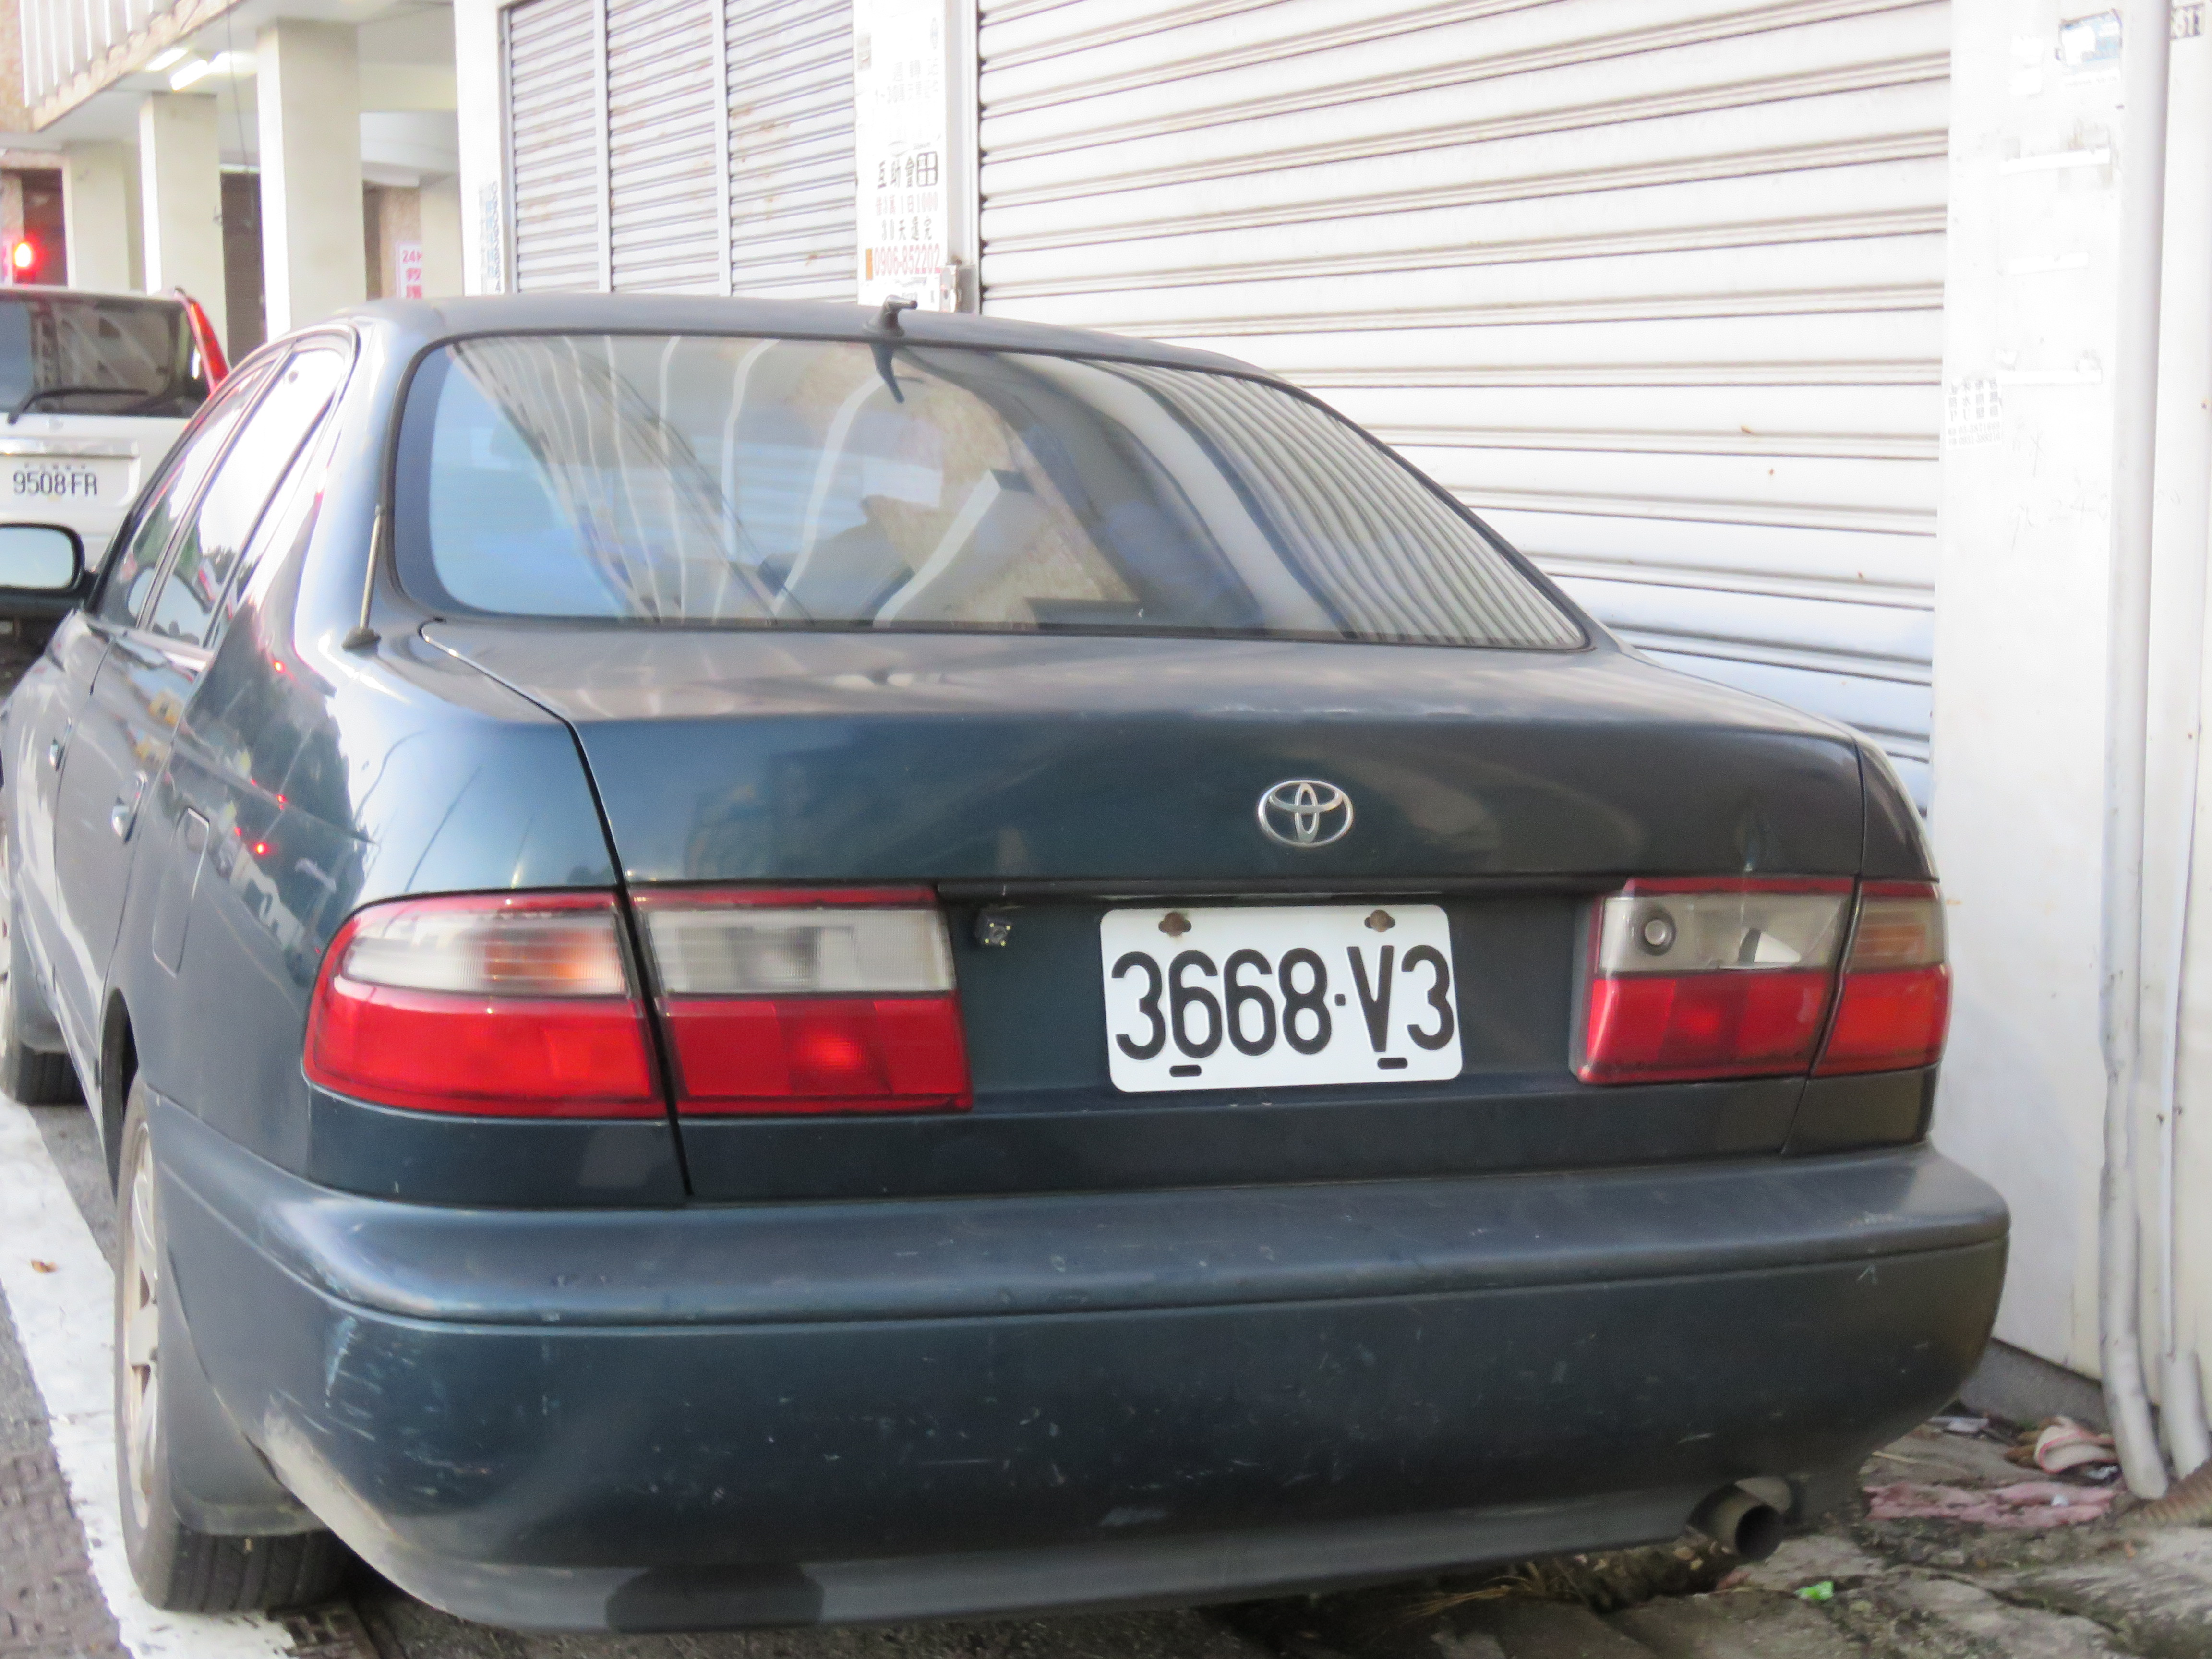car: (0, 289, 2012, 1640), (2, 275, 249, 631)
car_card: (1092, 890, 1468, 1101), (0, 453, 115, 504)
